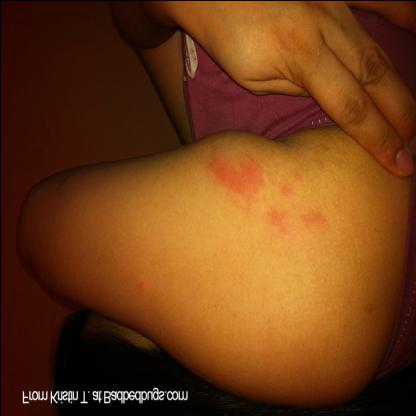Bed Bug: (200, 152, 264, 206), (294, 206, 332, 234), (279, 171, 305, 197), (262, 208, 288, 234), (134, 273, 152, 297)
